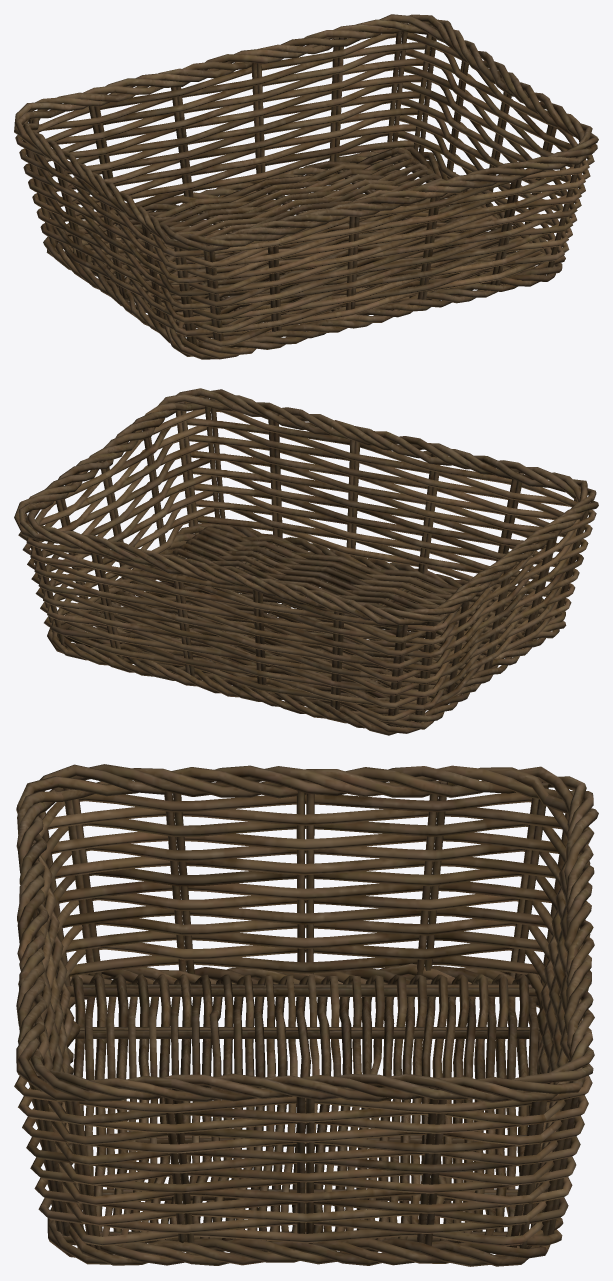
Rendered from wicker_basket_01.glb.
3 views of the same model, one above another, from view 1: azimuth 30°, elevation 25°; view 2: azimuth 150°, elevation 25°; view 3: azimuth 270°, elevation 25° (orthographic). The views are drawn at different scales.
Visible parts, largest first — view 1: wicker_basket_01; view 2: wicker_basket_01; view 3: wicker_basket_01.
Part boxes in pixels (x1,y1,x2,y2): wicker_basket_01: [14, 14, 598, 359]; wicker_basket_01: [14, 388, 598, 735]; wicker_basket_01: [14, 764, 598, 1266].
Size of the model in its own units: 0.3832 by 0.1174 by 0.295.
Materials: 1 (1 with a texture image).
